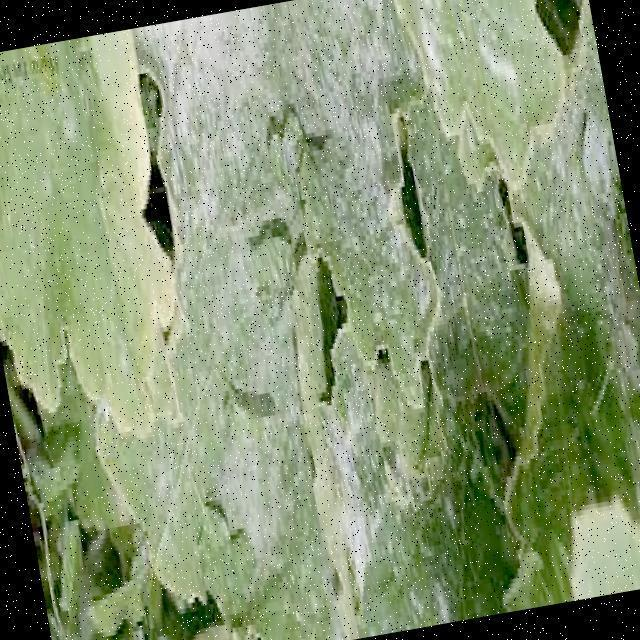Powdery_Mildew: (137, 0, 508, 622)
